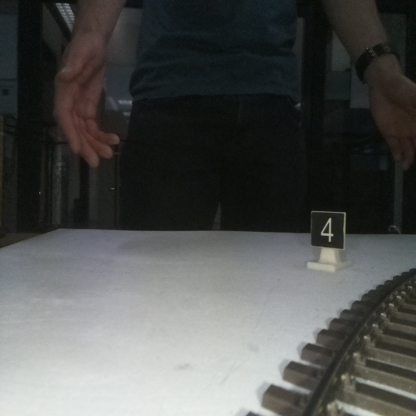black-stop-4: (311, 211, 344, 267)
